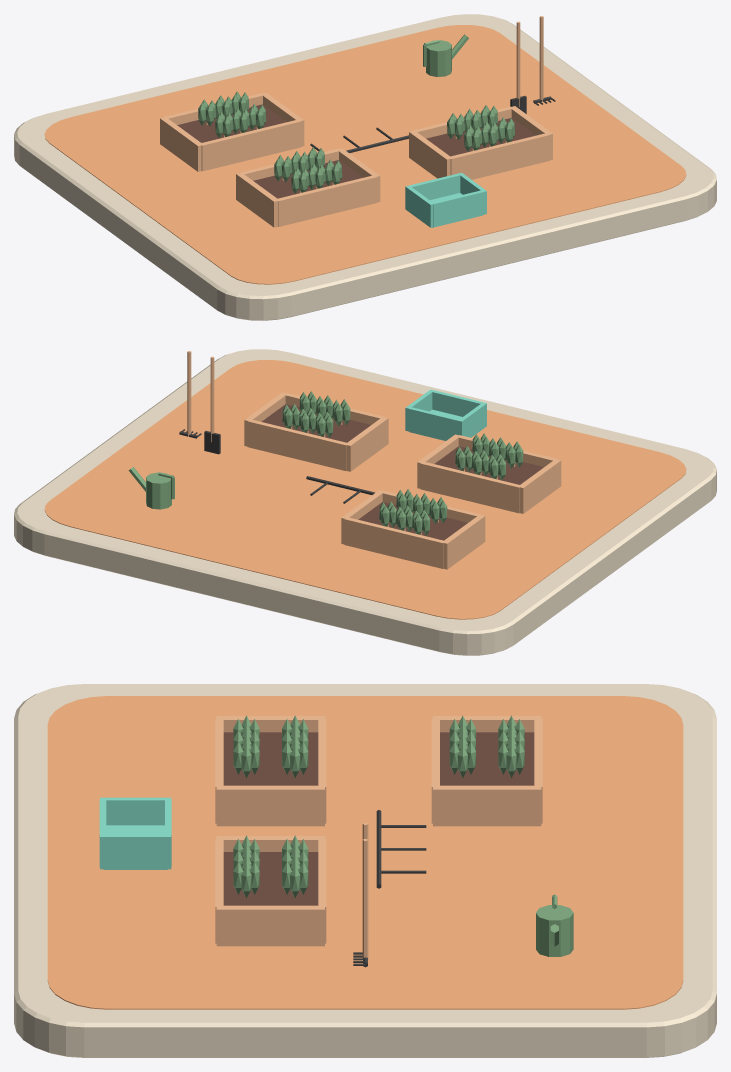
File: room.fbx
3 renders of one model, top to bottom at view 1: azimuth 30°, elevation 25°; view 2: azimuth 150°, elevation 25°; view 3: azimuth 270°, elevation 25°, orthographic. The views are drawn at different scales.
Parts seen in each view (by area): view 1: COM-02 Floor Surface, COM-01 Rounded Base Direct, Border.010, Border.002, Border.006, Bin end, Border, Border.008, Border.004, Soil.001, Soil, Soil.002 (+9 smaller); view 2: COM-02 Floor Surface, COM-01 Rounded Base Direct, Border.007, Border.011, Border.003, Border, Border.008, Border.004, Bin end.001, Soil.001, Soil.002, Soil (+9 smaller); view 3: COM-02 Floor Surface, COM-01 Rounded Base Direct, Border.001, Border.009, Border.005, Soil.001, Soil, Soil.002, Bin side.001, Bin side, Can, Border (+10 smaller).
Boxes of the visible parts, bbox=[...] form: COM-02 Floor Surface: bbox=[44, 25, 686, 284]; COM-01 Rounded Base Direct: bbox=[14, 14, 716, 320]; Border.010: bbox=[199, 120, 300, 171]; Border.002: bbox=[278, 175, 376, 226]; Border.006: bbox=[448, 133, 549, 179]; Bin end: bbox=[431, 190, 484, 226]; Border: bbox=[236, 172, 279, 227]; Border.008: bbox=[160, 117, 203, 171]; Border.004: bbox=[409, 131, 450, 178]; Soil.001: bbox=[426, 117, 535, 156]; Soil: bbox=[253, 160, 362, 198]; Soil.002: bbox=[177, 104, 286, 142]; COM-02 Floor Surface: bbox=[44, 360, 686, 619]; COM-01 Rounded Base Direct: bbox=[14, 349, 716, 655]; Border.007: bbox=[247, 419, 348, 471]; Border.011: bbox=[344, 517, 445, 568]; Border.003: bbox=[420, 461, 519, 513]; Border: bbox=[518, 459, 561, 513]; Border.008: bbox=[442, 514, 485, 569]; Border.004: bbox=[346, 417, 388, 471]; Bin end.001: bbox=[408, 407, 460, 440]; Soil.001: bbox=[261, 404, 370, 442]; Soil.002: bbox=[358, 502, 467, 540]; Soil: bbox=[434, 446, 543, 484]; COM-02 Floor Surface: bbox=[47, 696, 683, 1009]; COM-01 Rounded Base Direct: bbox=[14, 684, 716, 1057]; Border.001: bbox=[216, 785, 324, 826]; Border.009: bbox=[433, 785, 541, 826]; Border.005: bbox=[216, 905, 324, 946]; Soil.001: bbox=[223, 852, 318, 905]; Soil: bbox=[223, 732, 318, 785]; Soil.002: bbox=[440, 732, 534, 785]; Bin side.001: bbox=[100, 834, 171, 869]; Bin side: bbox=[100, 797, 171, 825]; Can: bbox=[536, 905, 573, 956]; Border: bbox=[216, 716, 324, 732].
Bounding box in the file's own units: 600 × 140 × 520.
